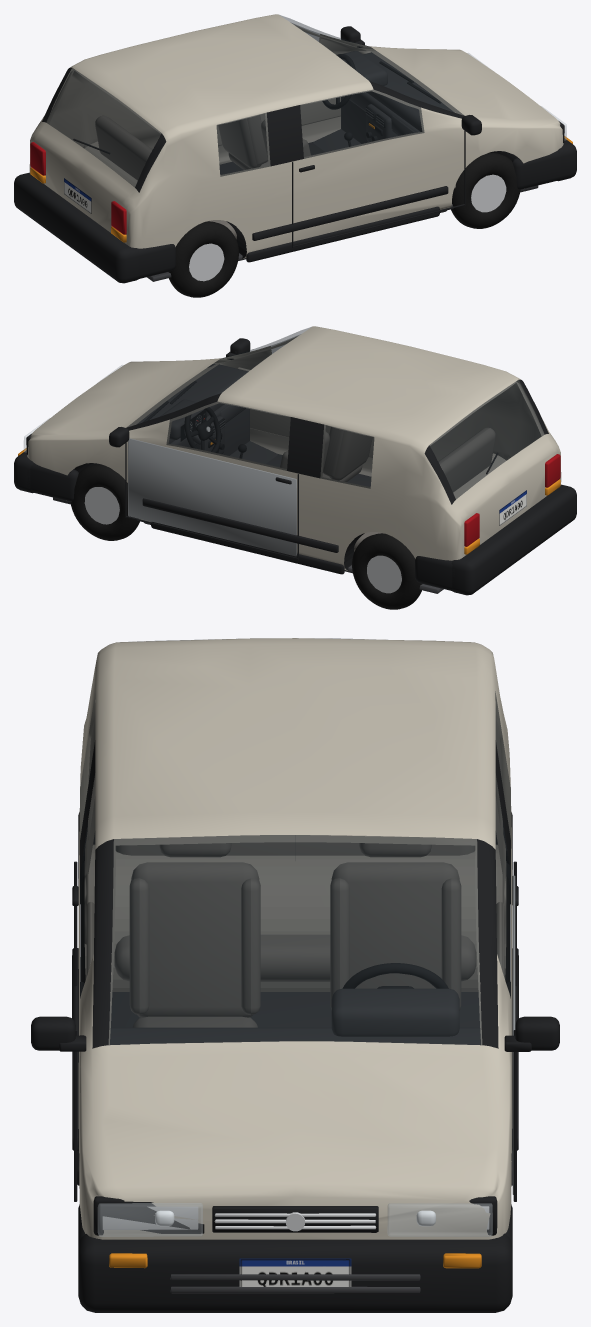
The model's file is quadradinho.glb.
3 views of the same model, one above another, from view 1: azimuth 30°, elevation 25°; view 2: azimuth 150°, elevation 25°; view 3: azimuth 270°, elevation 25° (orthographic). The views are drawn at different scales.
Parts seen in each view (by area): view 1: Body, Details; view 2: Body, Details; view 3: Body, Details.
Boxes of the visible parts, <box> form: Body: <box>14,14,576,297</box>; Details: <box>64,178,91,213</box>; Body: <box>14,326,576,609</box>; Details: <box>180,410,526,525</box>; Body: <box>31,638,559,1312</box>; Details: <box>239,1258,351,1286</box>.
Bounding box in the file's own units: 3.64 × 1.33 × 1.8.
5 materials, 5 textured.
